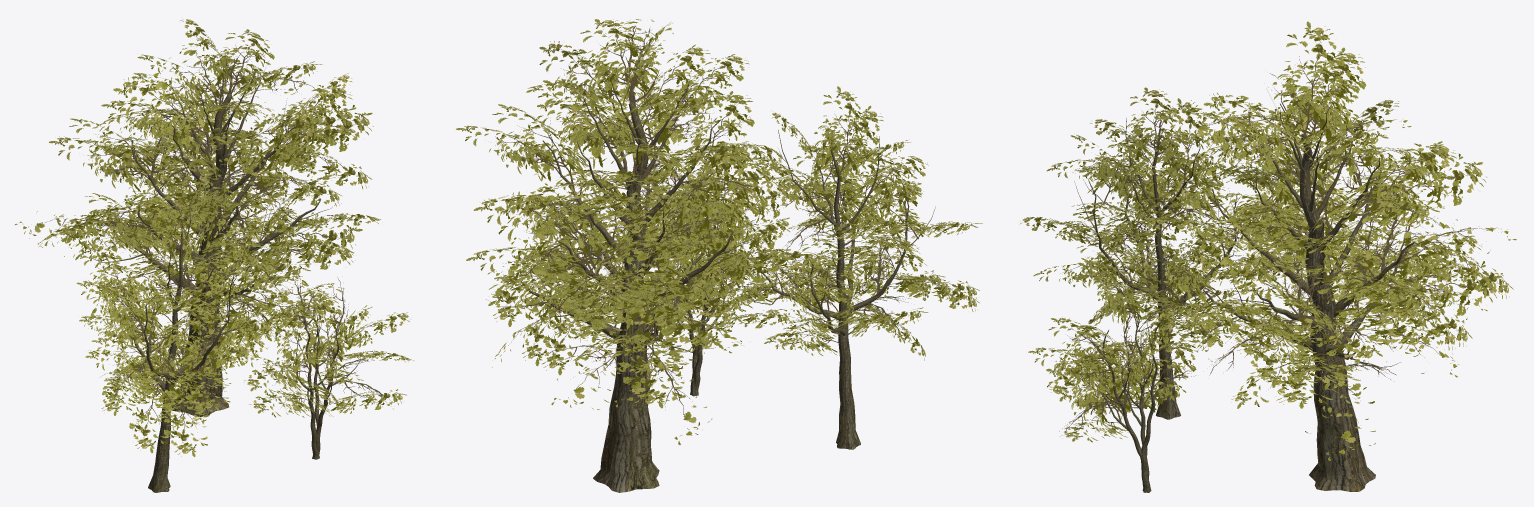
The model's file is downloaded_trees.glb.
3 views of the same model, side by side, from view 1: azimuth 30°, elevation 25°; view 2: azimuth 150°, elevation 25°; view 3: azimuth 270°, elevation 25° (orthographic). The views are drawn at different scales.
Visible parts, largest first — view 1: treelarge, Treemedium, Treesmall; view 2: treelarge, Treemedium, Treesmall; view 3: treelarge, Treemedium, Treesmall.
Boxes of the visible parts, <box> form: treelarge: <box>15,19,380,416</box>; Treemedium: <box>76,173,292,492</box>; Treesmall: <box>235,277,413,459</box>; treelarge: <box>456,19,829,492</box>; Treemedium: <box>691,86,982,449</box>; Treesmall: <box>641,152,794,396</box>; treelarge: <box>1122,21,1516,491</box>; Treemedium: <box>1019,87,1301,419</box>; Treesmall: <box>1028,257,1197,492</box>.
Bounding box in the file's own units: 1.97 × 2.04 × 2.08.
Materials: 2 (2 with a texture image).
